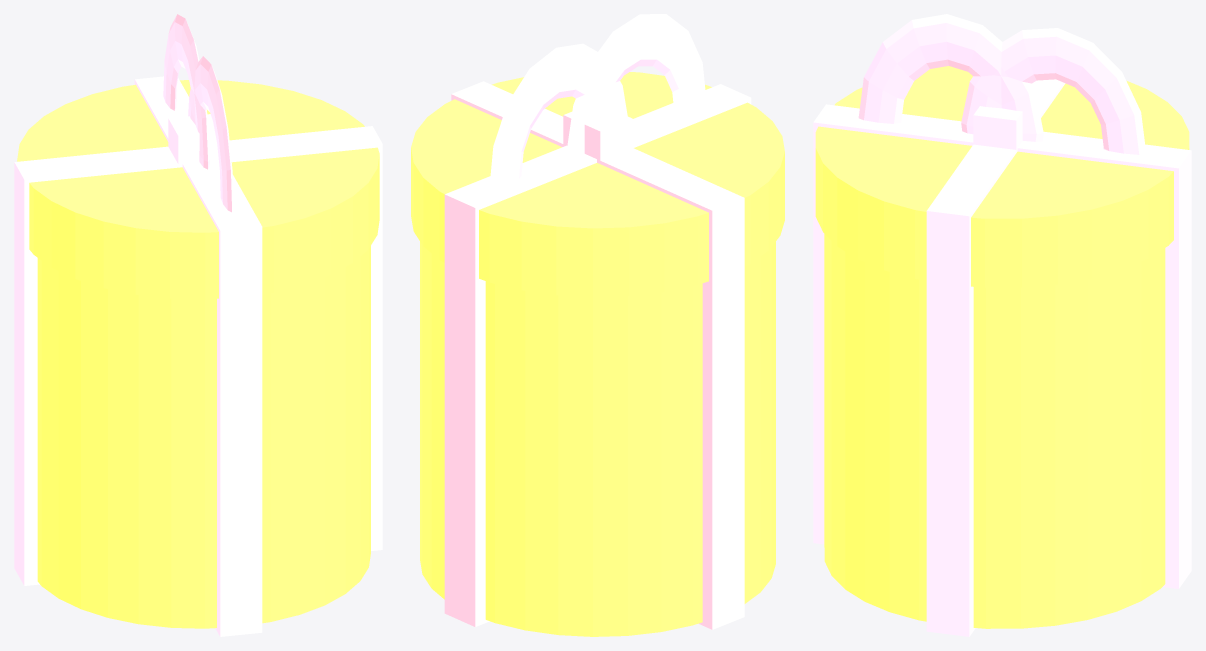
File: Tmpl_Round_Root_198.glb
3 views of the same model, side by side, from view 1: azimuth 30°, elevation 25°; view 2: azimuth 150°, elevation 25°; view 3: azimuth 270°, elevation 25° (orthographic). The views are drawn at different scales.
Parts seen in each view (by area): view 1: Tmpl_Round_Base.196, Tmpl_Round_Lid.196, Tmpl_Round_Ribbon_X.196, Tmpl_Round_Ribbon_Y.196, Tmpl_Round_BowR.196, Tmpl_Round_BowL.196, Tmpl_Round_BowKnot.196; view 2: Tmpl_Round_Base.196, Tmpl_Round_Lid.196, Tmpl_Round_Ribbon_Y.196, Tmpl_Round_Ribbon_X.196, Tmpl_Round_BowL.196, Tmpl_Round_BowR.196, Tmpl_Round_BowKnot.196; view 3: Tmpl_Round_Base.196, Tmpl_Round_Lid.196, Tmpl_Round_Ribbon_Y.196, Tmpl_Round_Ribbon_X.196, Tmpl_Round_BowL.196, Tmpl_Round_BowR.196, Tmpl_Round_BowKnot.196.
Boxes of the visible parts, x1,y1,x2,y2 form: Tmpl_Round_Base.196: (37, 246, 370, 628); Tmpl_Round_Lid.196: (17, 80, 379, 299); Tmpl_Round_Ribbon_X.196: (134, 76, 262, 636); Tmpl_Round_Ribbon_Y.196: (14, 126, 382, 585); Tmpl_Round_BowR.196: (163, 14, 209, 169); Tmpl_Round_BowL.196: (188, 56, 233, 212); Tmpl_Round_BowKnot.196: (168, 114, 218, 167); Tmpl_Round_Base.196: (420, 241, 775, 636); Tmpl_Round_Lid.196: (411, 72, 784, 296); Tmpl_Round_Ribbon_Y.196: (451, 81, 744, 629); Tmpl_Round_Ribbon_X.196: (444, 84, 751, 626); Tmpl_Round_BowL.196: (566, 14, 706, 157); Tmpl_Round_BowR.196: (489, 43, 627, 189); Tmpl_Round_BowKnot.196: (563, 111, 632, 163); Tmpl_Round_Base.196: (824, 234, 1165, 628); Tmpl_Round_Lid.196: (815, 66, 1189, 287); Tmpl_Round_Ribbon_Y.196: (926, 79, 1065, 636); Tmpl_Round_Ribbon_X.196: (813, 104, 1191, 588); Tmpl_Round_BowL.196: (858, 14, 1043, 141); Tmpl_Round_BowR.196: (961, 28, 1146, 154); Tmpl_Round_BowKnot.196: (973, 106, 1022, 149).
Bounding box in the file's own units: 0.635 × 0.9928 × 0.635.
